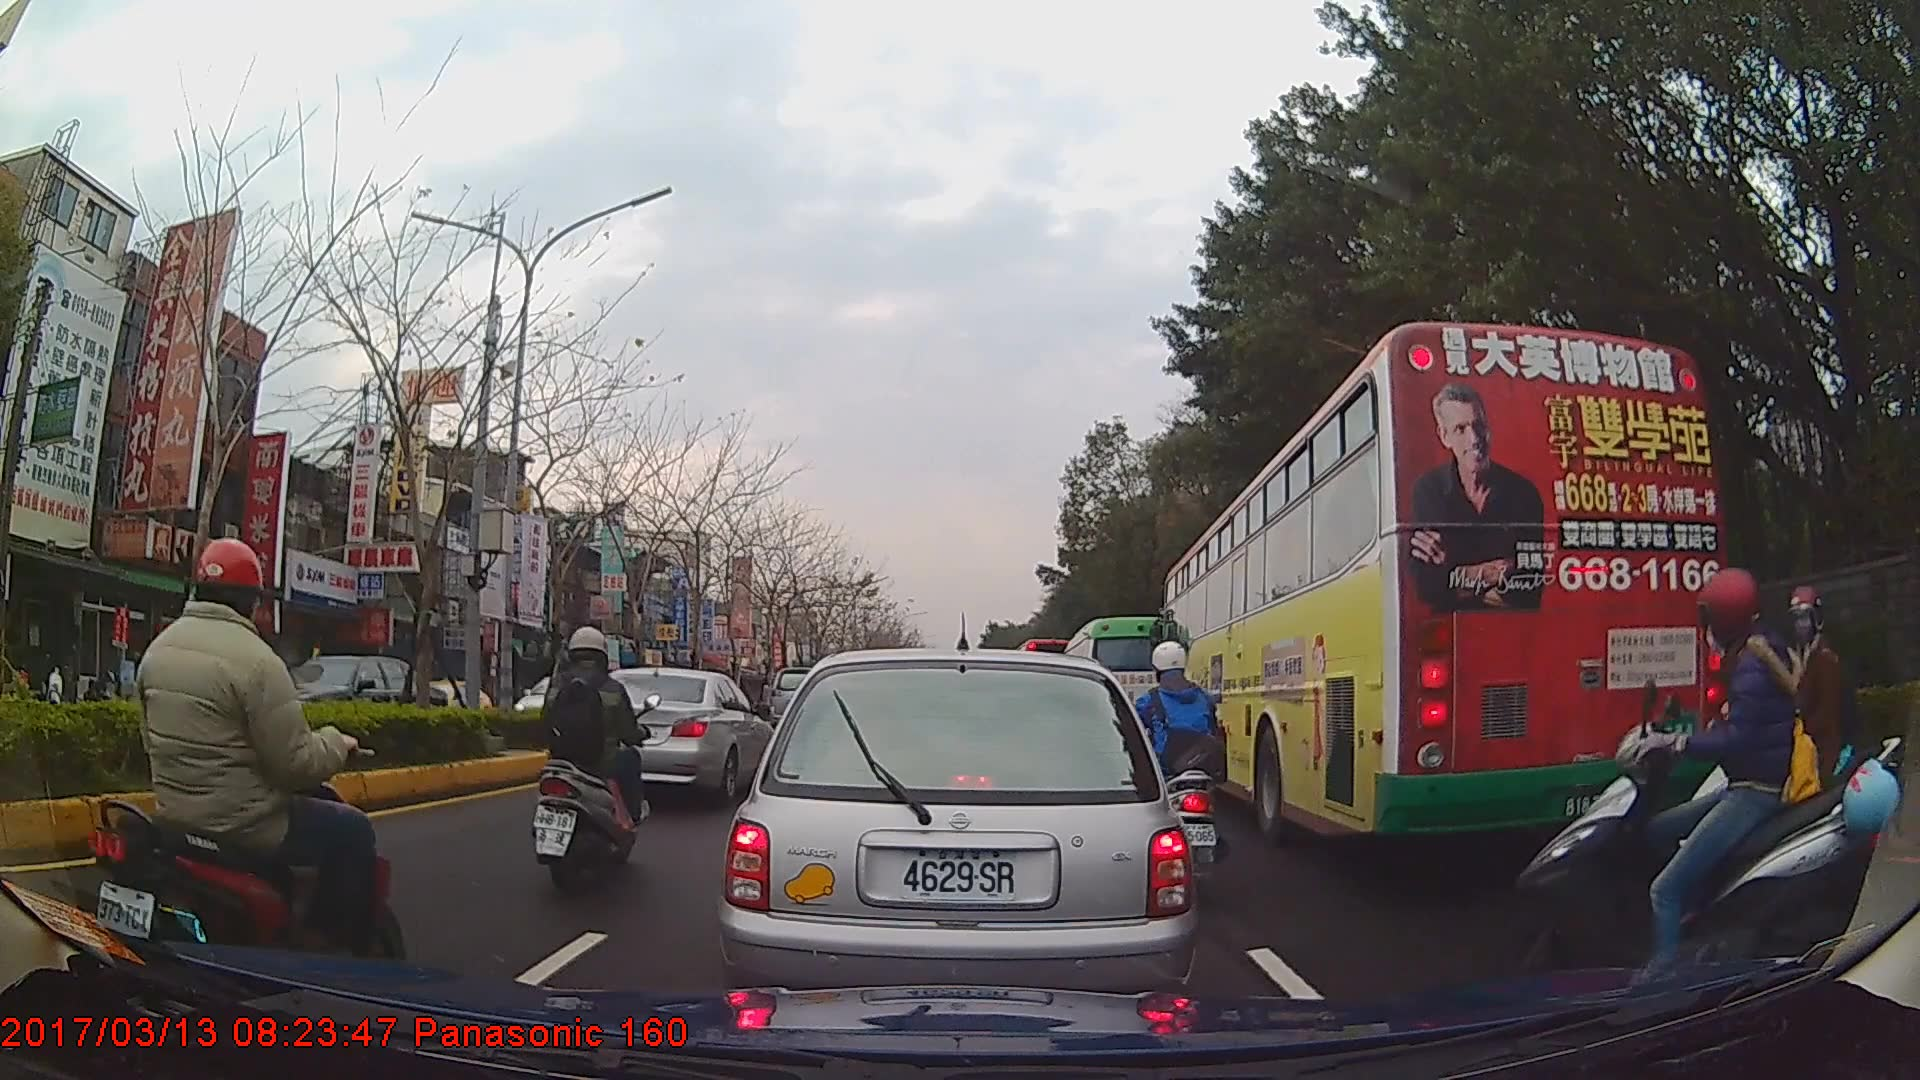rider: (1506, 576, 1900, 1004), (96, 540, 405, 987), (1692, 579, 1896, 913), (527, 626, 651, 893), (1130, 637, 1226, 894)
vehicle: (1160, 319, 1727, 849), (716, 647, 1193, 1028), (568, 666, 778, 802), (214, 650, 447, 751), (1058, 616, 1187, 764), (137, 655, 371, 736)
